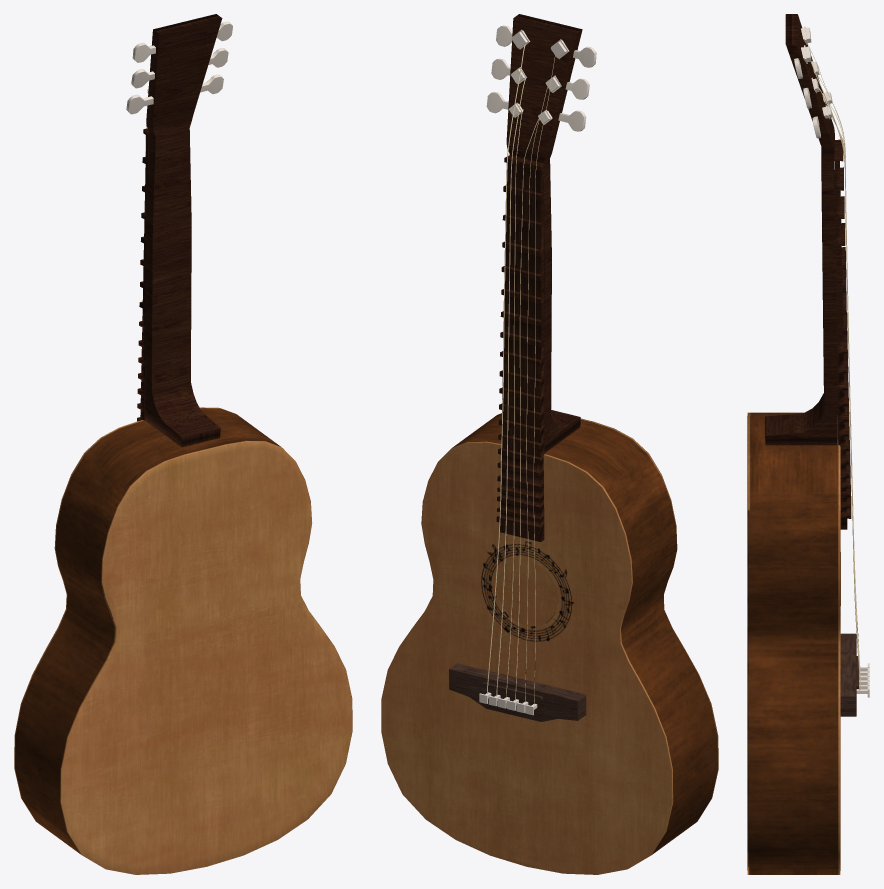
Rendered from uploads_files_3787466_Guitar.fbx.
The picture shows the model from 3 angles, left to right: view 1: azimuth 30°, elevation 25°; view 2: azimuth 150°, elevation 25°; view 3: azimuth 270°, elevation 25°; orthographic projection.
Visible parts, largest first — view 1: Guitar; view 2: Guitar; view 3: Guitar.
Part boxes in pixels (x1,y1,x2,y2): Guitar: [14, 14, 352, 874]; Guitar: [381, 14, 718, 874]; Guitar: [747, 14, 869, 874].
Bounding box in the file's own units: 25.95 × 70.17 × 9.47.
Materials: 3 (3 with a texture image).
